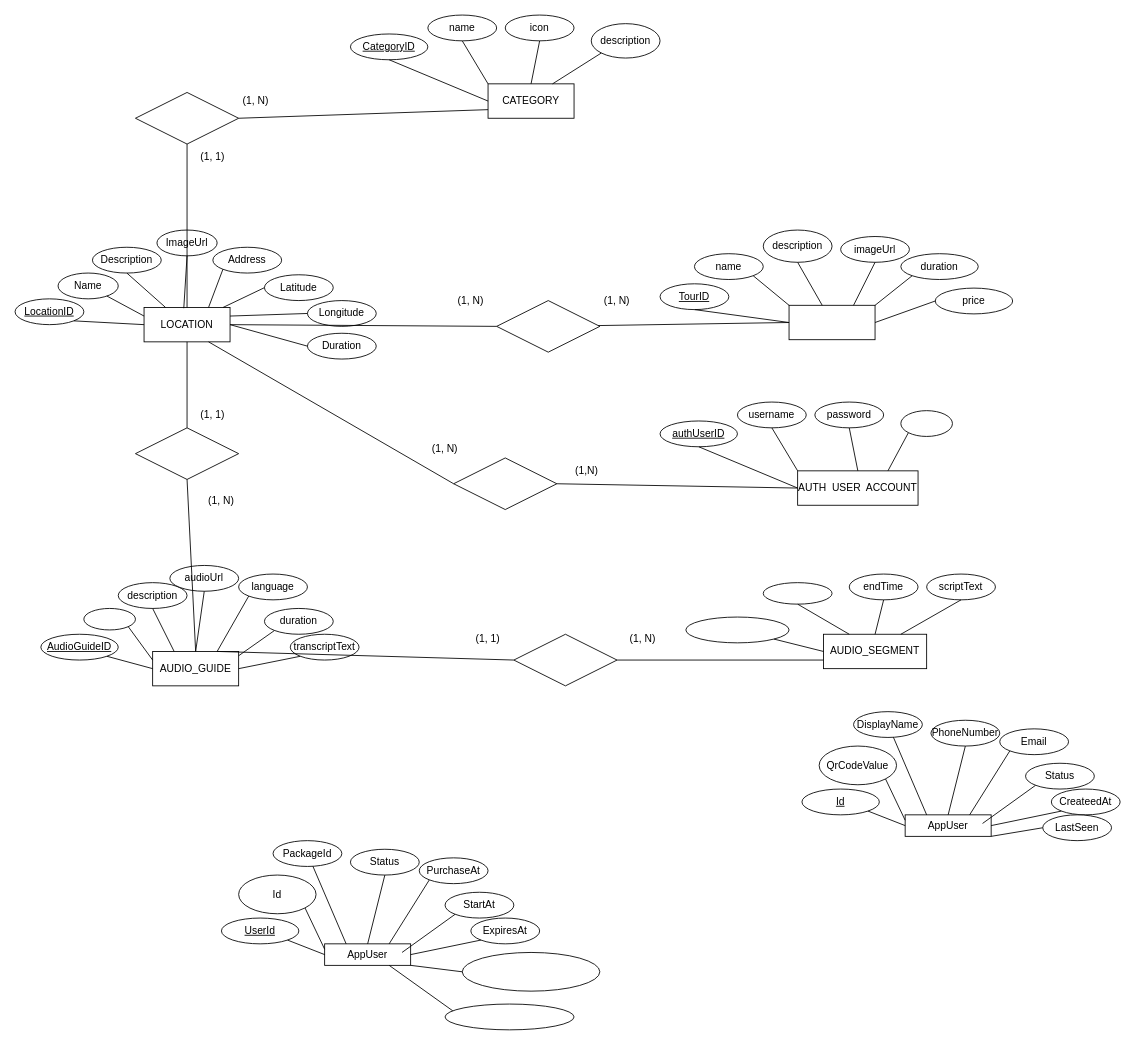
Image size: 1135x1045. Some labels were removed from this diagram. The centre of each missing label's shape, as x and y in pixels:
"ASSIGNED_TO" goes at [505,483].
"AudioSegmentID" goes at [737,629].
"BELONGS" goes at [187,118].
"CONSISTS_OF" goes at [548,326].
"DIVIDED INTO" goes at [565,659].
"HAS" goes at [187,453].
"LastVerified" goes at [509,1016].
"PaymentReference" goes at [530,971].
"role" goes at [926,423].
"startTime" goes at [797,593].
"title" goes at [109,619].
"TOUR" goes at [831,322].
